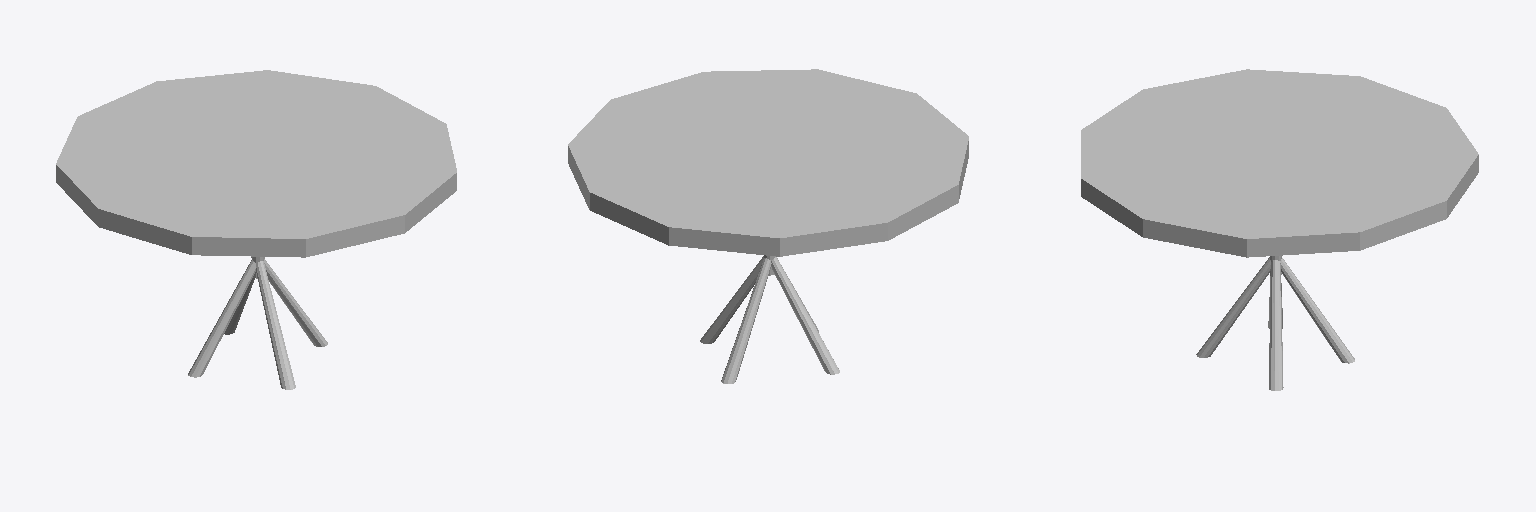
The model's file is desk3.obj.
3 renders of one model, left to right at view 1: azimuth 30°, elevation 25°; view 2: azimuth 150°, elevation 25°; view 3: azimuth 270°, elevation 25°, orthographic.
Parts seen in each view (by area): view 1: Cylinder; view 2: Cylinder; view 3: Cylinder.
Boxes of the visible parts, x1,y1,x2,y2 form: Cylinder: [56, 70, 456, 389]; Cylinder: [568, 69, 968, 383]; Cylinder: [1081, 69, 1478, 390].
Bounding box in the file's own units: 2.02 × 1.13 × 2.